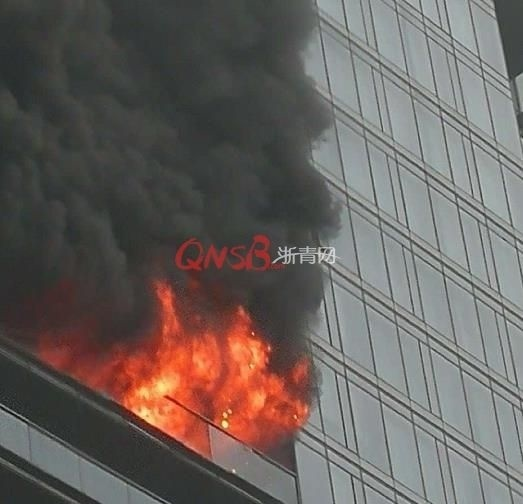fire: (113, 280, 311, 450)
